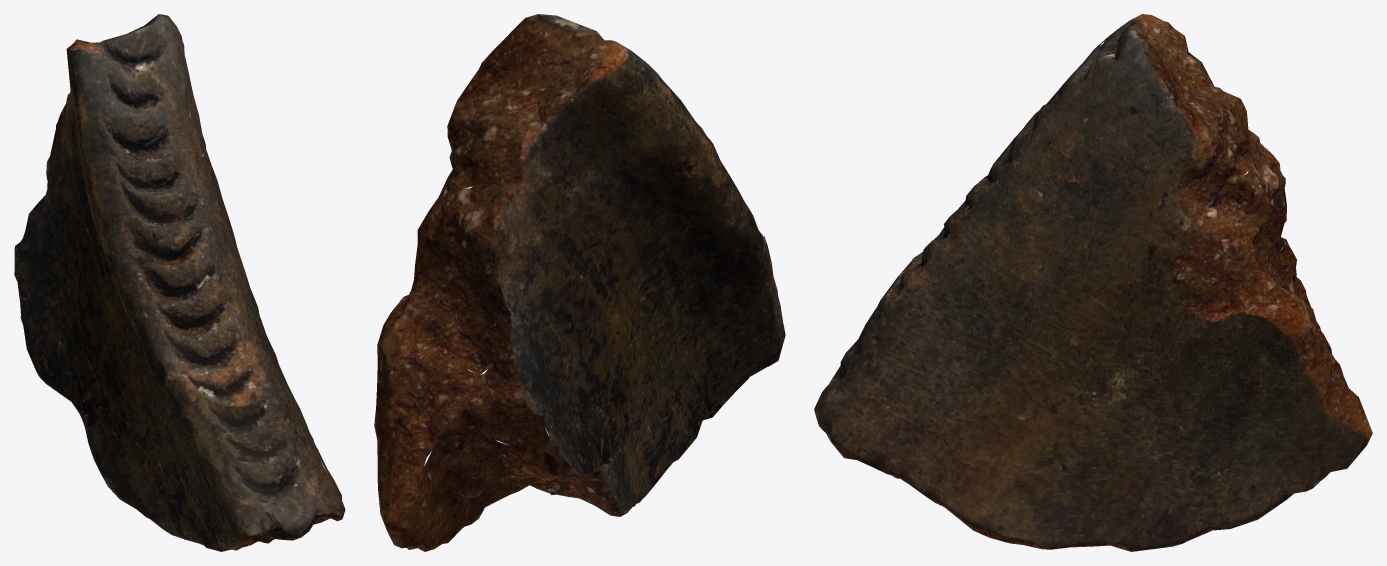
The model's file is piece13_10000_resHi.glb.
3 renders of one model, left to right at view 1: azimuth 30°, elevation 25°; view 2: azimuth 150°, elevation 25°; view 3: azimuth 270°, elevation 25°, orthographic. The views are drawn at different scales.
Bounding box in the file's own units: 0.2163 × 0.4851 × 0.5172.
Materials: 1 (1 with a texture image).
